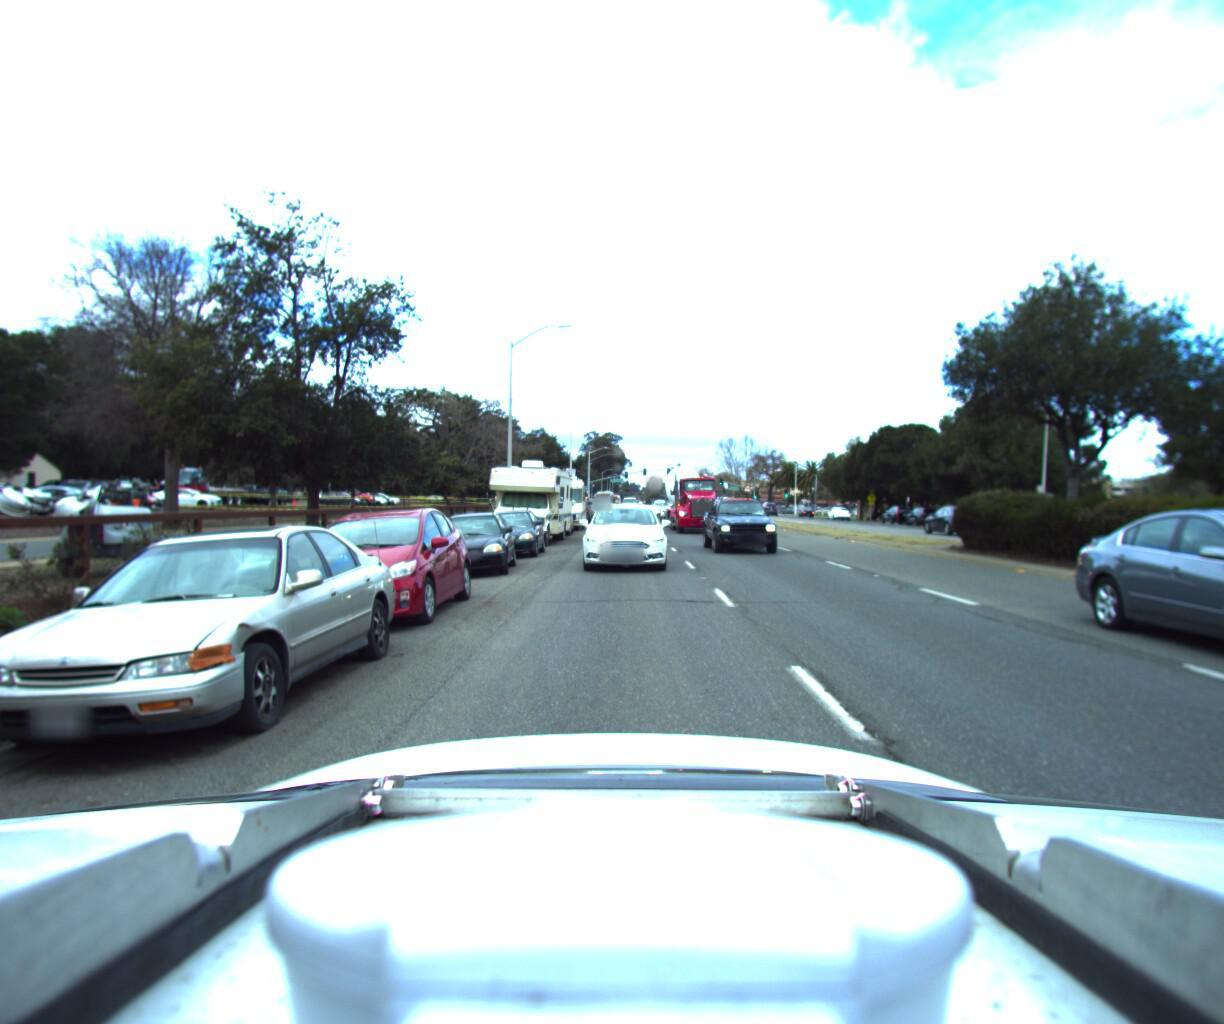car: (0, 513, 405, 810), (264, 499, 474, 643), (1134, 502, 1224, 766), (575, 493, 671, 571), (420, 502, 515, 579), (698, 487, 785, 556), (471, 501, 545, 558), (908, 498, 978, 532), (529, 503, 574, 532), (880, 499, 914, 517), (646, 492, 669, 513)
other_vehicle: (478, 448, 575, 540), (533, 466, 588, 527)
truck: (655, 448, 727, 534)
